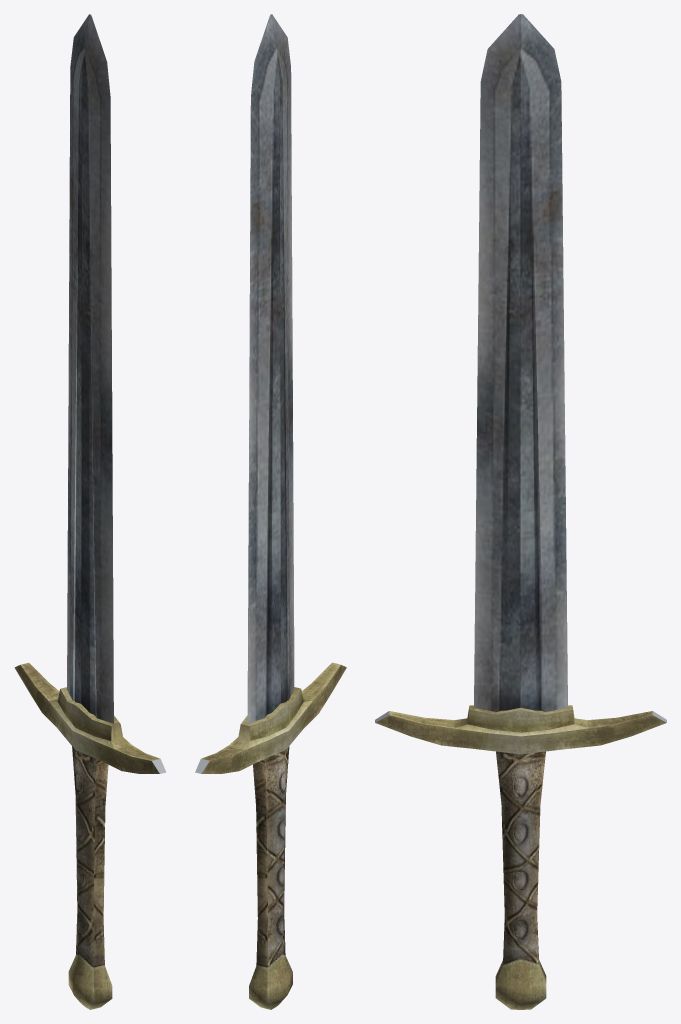
The model's file is weapons_sword05.glb.
3 renders of one model, left to right at view 1: azimuth 30°, elevation 25°; view 2: azimuth 150°, elevation 25°; view 3: azimuth 270°, elevation 25°, orthographic.
Visible parts, largest first — view 1: sword05; view 2: sword05; view 3: sword05.
Boxes of the visible parts, x1,y1,x2,y2 form: sword05: [14, 14, 166, 1009]; sword05: [195, 14, 346, 1009]; sword05: [375, 14, 666, 1009].
Size of the model in its own units: 0.0406 by 1.06 by 0.2824.
1 material, 1 textured.
